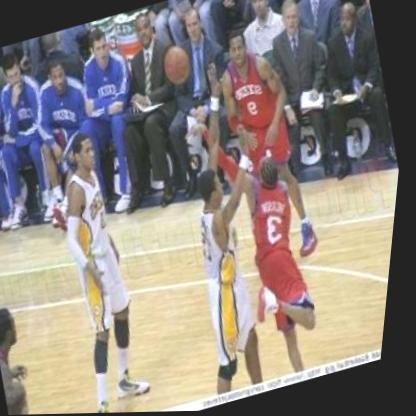basketball: (151, 38, 203, 93)
